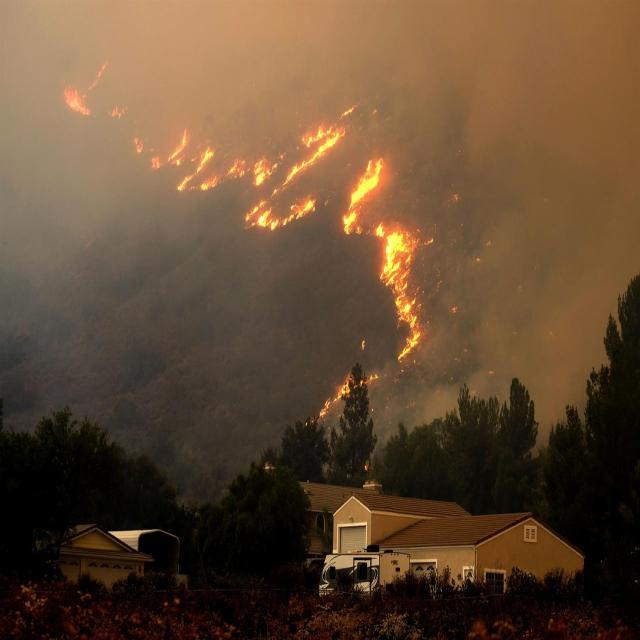Fire: (58, 57, 444, 435)
Smoke: (0, 0, 639, 456)
